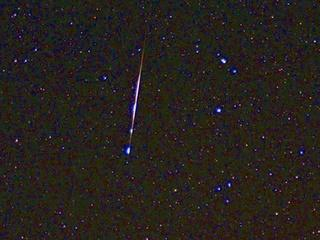meteorite: (121, 43, 152, 155)
